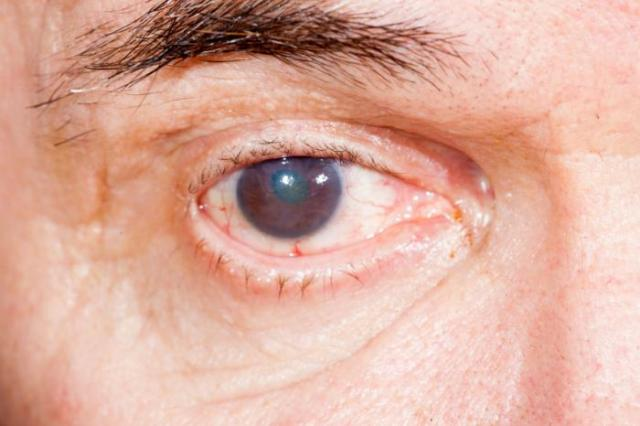eye: (235, 154, 342, 239)
